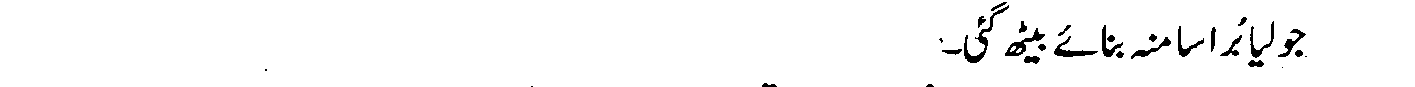bay_shosha: (1030, 26, 1048, 51), (1114, 41, 1126, 58)
